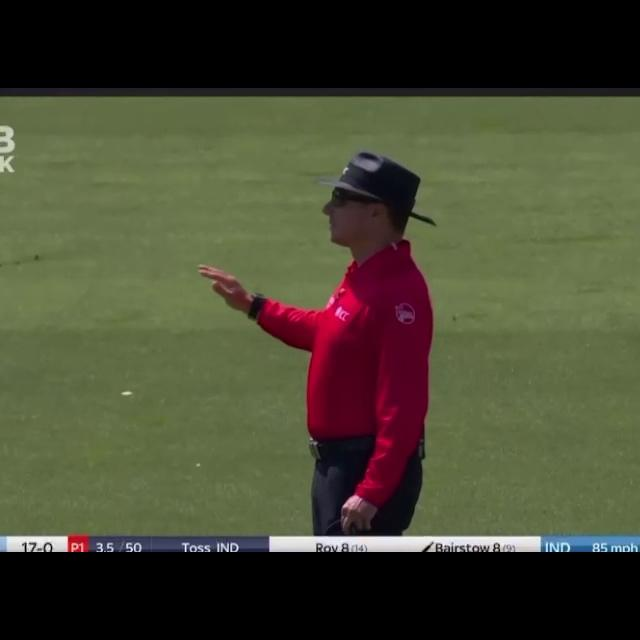umpire: (187, 130, 449, 535)
